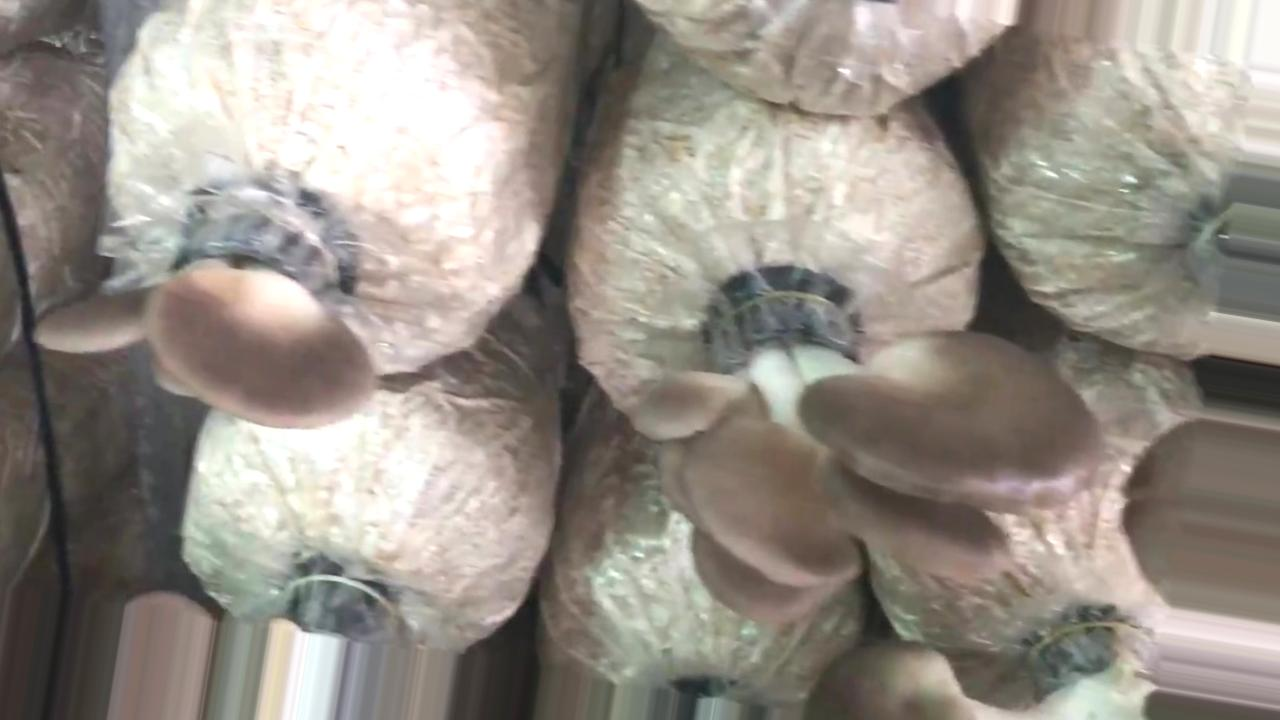nam: (632, 288, 1109, 623), (30, 192, 382, 432)
